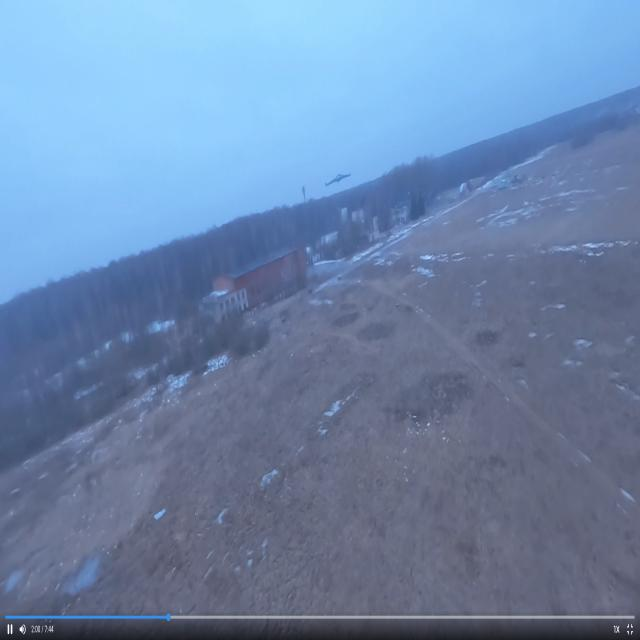planedrone: (324, 168, 350, 186)
